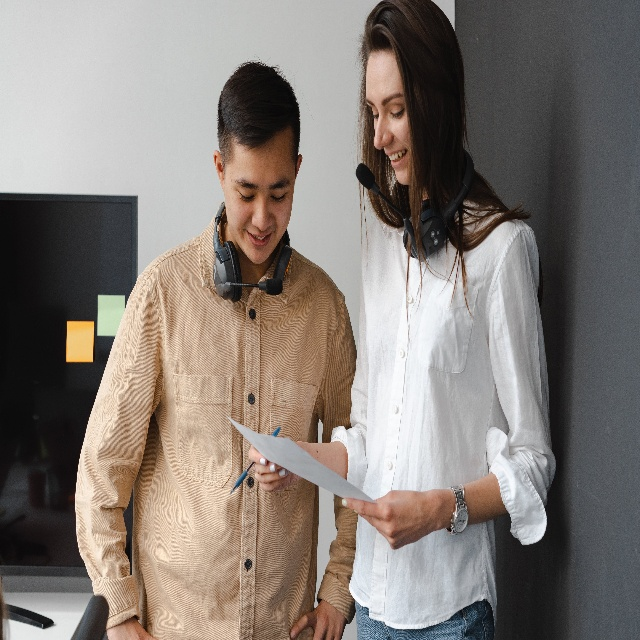Sin_guantes: (341, 490, 443, 552), (247, 439, 304, 493), (288, 598, 347, 640), (105, 620, 157, 640)
